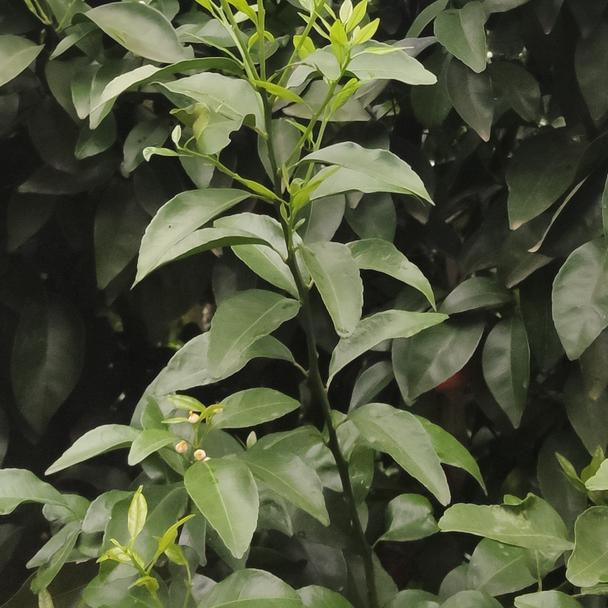shoot: (269, 9, 405, 157), (93, 500, 189, 606)
